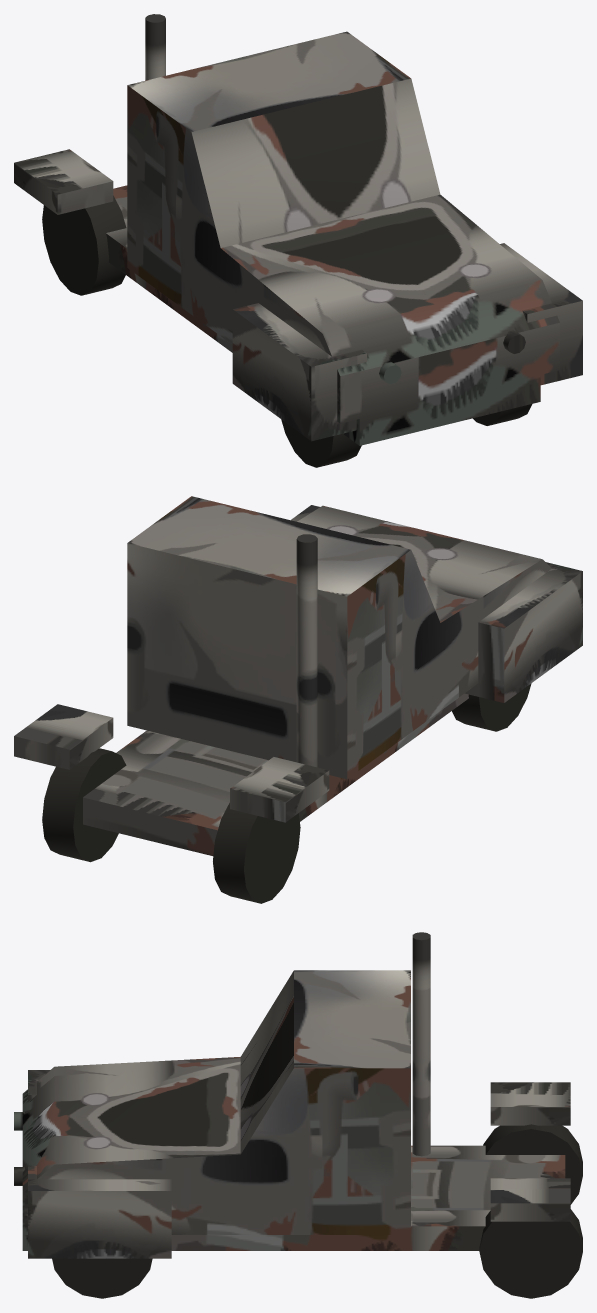
File: Building_AncientIndustrialTruck.obj
3 views of the same model, one above another, from view 1: azimuth 30°, elevation 25°; view 2: azimuth 150°, elevation 25°; view 3: azimuth 270°, elevation 25° (orthographic). The views are drawn at different scales.
Parts seen in each view (by area): view 1: Body; view 2: Body; view 3: Body.
Part boxes in pixels (left/top/right/bottom): Body: left=14, top=14, right=582, bottom=467; Body: left=14, top=496, right=582, bottom=903; Body: left=14, top=932, right=582, bottom=1298.
Size of the model in its own units: 2.1 by 2.3 by 4.18.
Materials: 1 (1 with a texture image).
